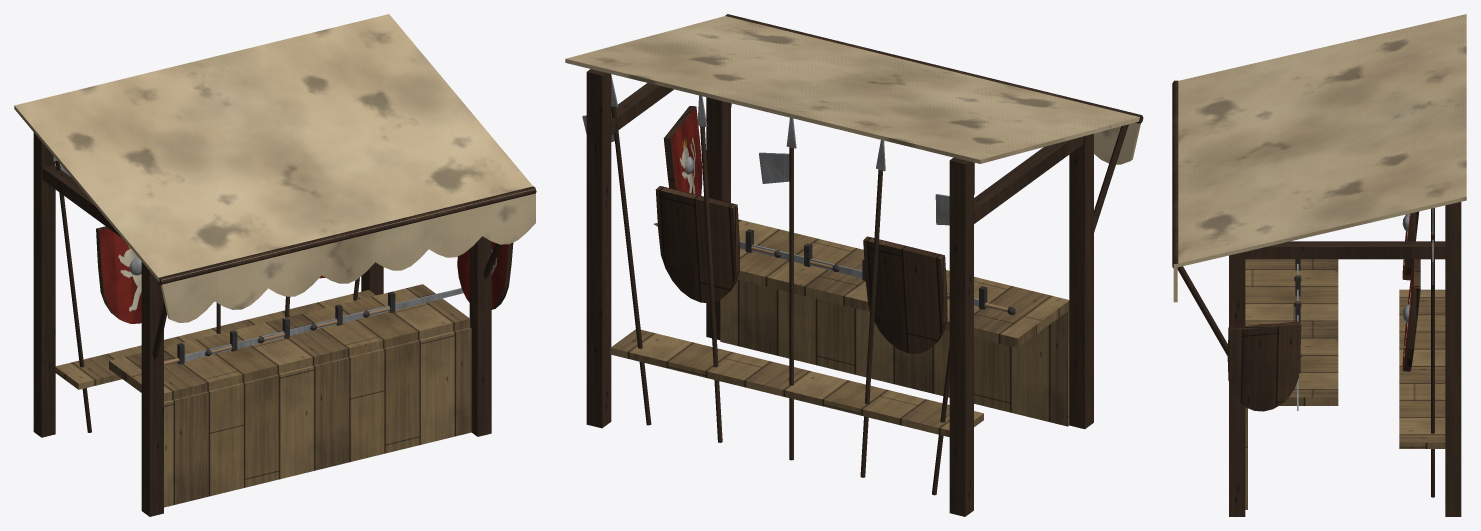
The model's file is market_stall_weapons.gltf.
3 views of the same model, side by side, from view 1: azimuth 30°, elevation 25°; view 2: azimuth 150°, elevation 25°; view 3: azimuth 270°, elevation 25° (orthographic). The views are drawn at different scales.
Parts seen in each view (by area): view 1: INT_stall_weapons; view 2: INT_stall_weapons; view 3: INT_stall_weapons.
Part boxes in pixels (x1,y1,x2,y2): INT_stall_weapons: (14,14,536,516); INT_stall_weapons: (565,14,1143,516); INT_stall_weapons: (1172,14,1466,516).
Size of what is drawn, in the model's own units: 3.26 by 2.68 by 2.18.
8 materials, 7 textured.
